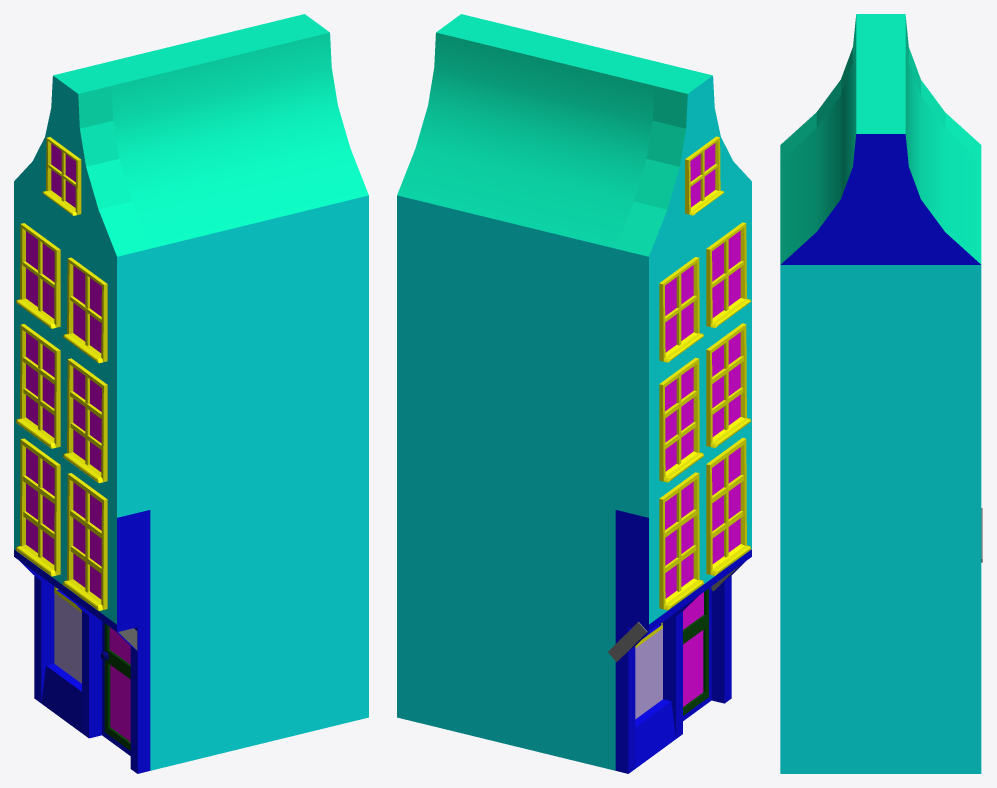
The model's file is huis5_model.obj.
3 renders of one model, left to right at view 1: azimuth 30°, elevation 25°; view 2: azimuth 150°, elevation 25°; view 3: azimuth 270°, elevation 25°, orthographic. The views are drawn at different scales.
Parts seen in each view (by area): view 1: pCube28; view 2: pCube28; view 3: pCube28.
Boxes of the visible parts, bbox=[...] form: pCube28: bbox=[14, 14, 368, 773]; pCube28: bbox=[397, 14, 751, 773]; pCube28: bbox=[780, 14, 982, 773].
Size of the model in its own units: 10.59 by 25.42 by 7.28.
